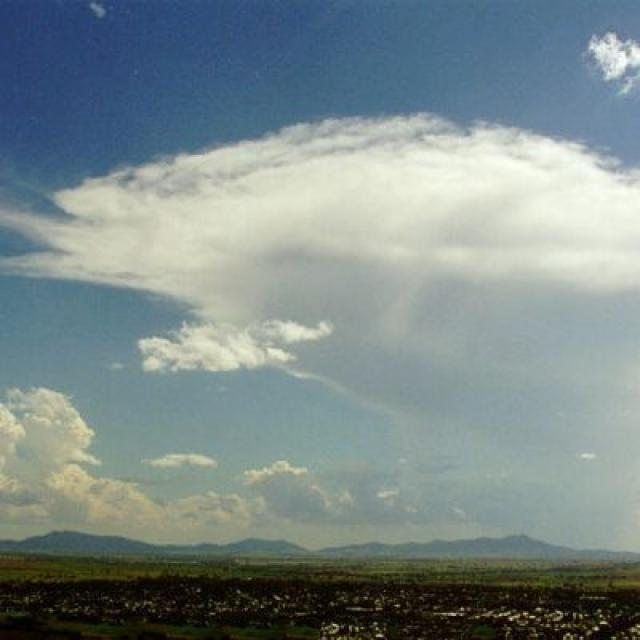Cu: (1, 63, 640, 514)
